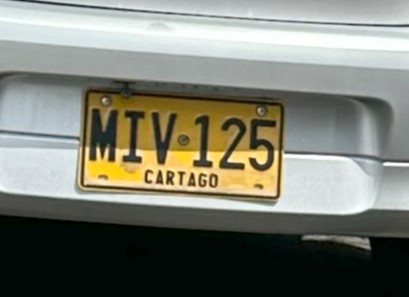number plate: (81, 91, 282, 197)
